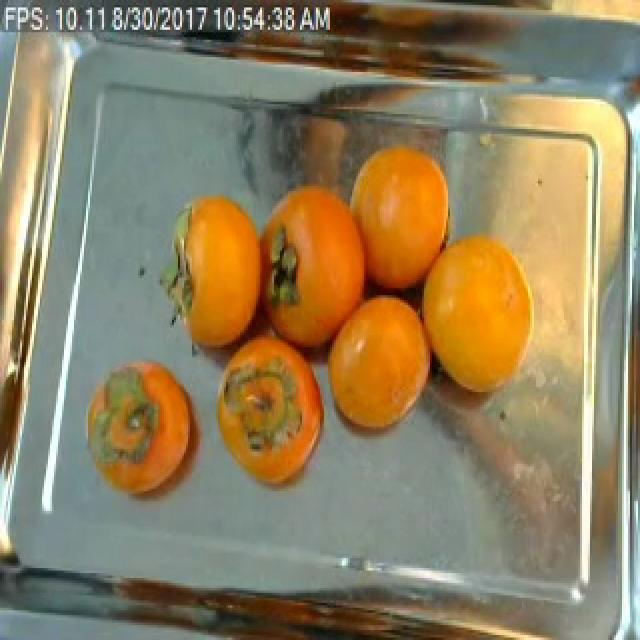Fruit: (76, 342, 218, 521), (320, 270, 450, 457), (204, 320, 330, 506), (162, 179, 282, 372)
